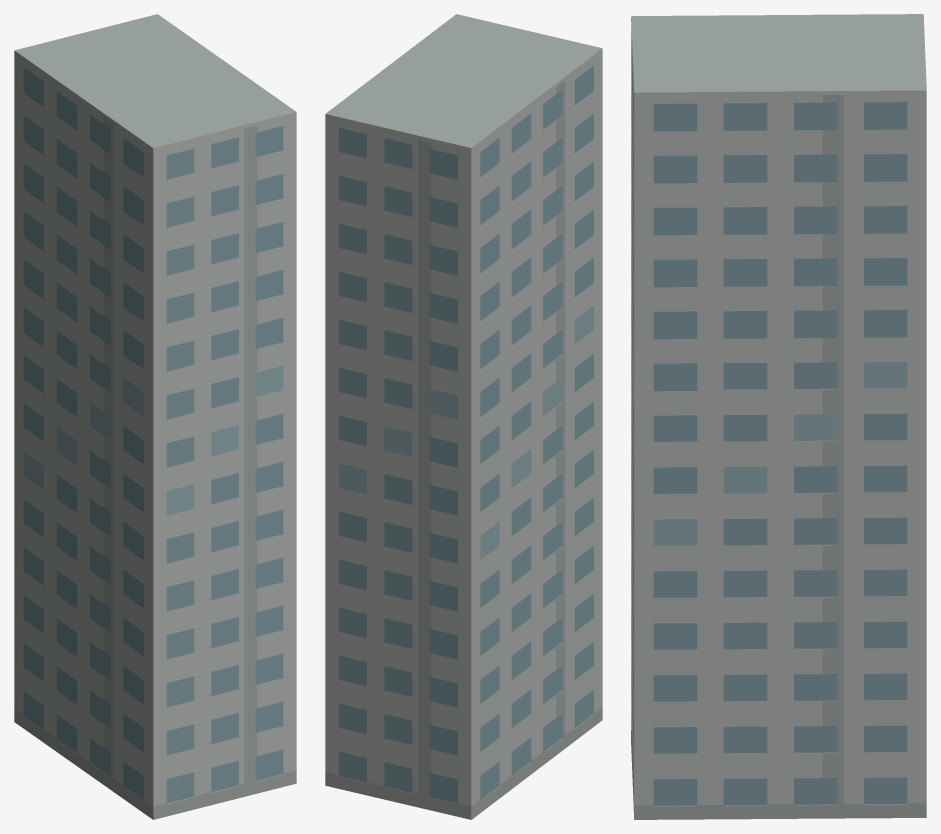
File: residential-05e80611-2146-4689-9207-6ed9b58582a3.glb
3 views of the same model, side by side, from view 1: azimuth 30°, elevation 25°; view 2: azimuth 150°, elevation 25°; view 3: azimuth 270°, elevation 25° (orthographic). The views are drawn at different scales.
Visible parts, largest first — view 1: residential-05e80611-2146-4689-9207-6ed9b58582a3.tmp; view 2: residential-05e80611-2146-4689-9207-6ed9b58582a3.tmp; view 3: residential-05e80611-2146-4689-9207-6ed9b58582a3.tmp.
Part boxes in pixels (box(x1,y1,x2,y2)): residential-05e80611-2146-4689-9207-6ed9b58582a3.tmp: box(14, 14, 296, 819); residential-05e80611-2146-4689-9207-6ed9b58582a3.tmp: box(325, 14, 602, 819); residential-05e80611-2146-4689-9207-6ed9b58582a3.tmp: box(631, 14, 926, 819).
Size of the model in its own units: 10.66 by 46 by 16.95.
